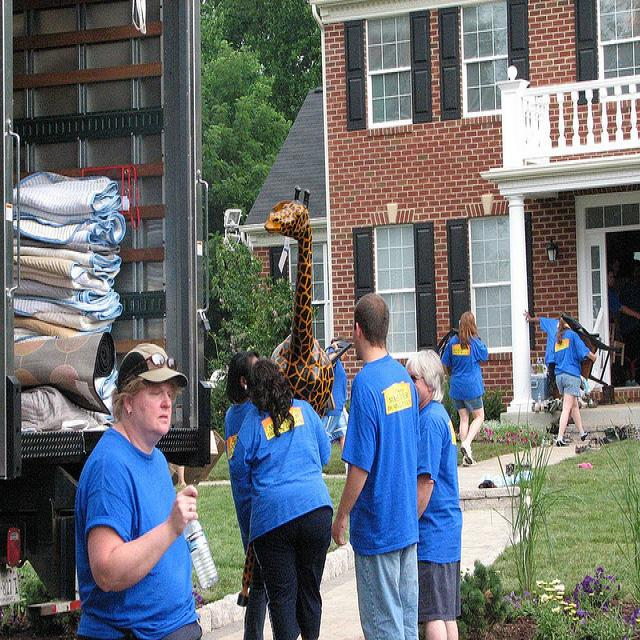Vehicle: (1, 0, 217, 611)
